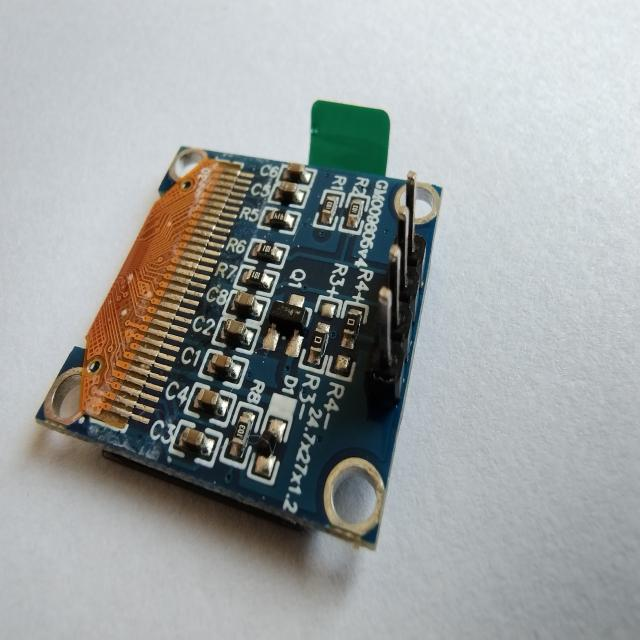oled: (34, 111, 460, 568)
